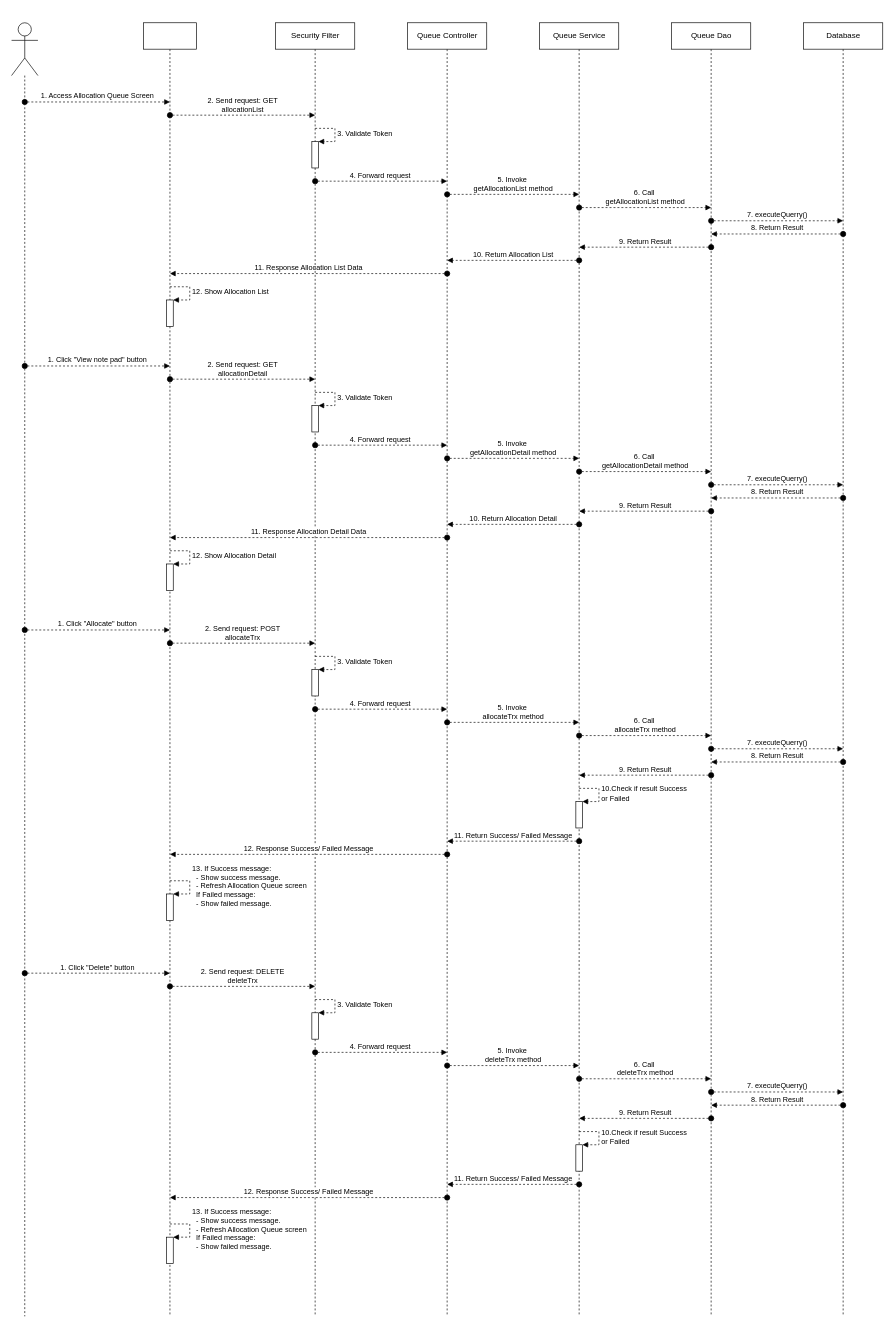
Image size: 894x1329. Some labels were removed from this diagram. The centre of each missing label's shape, as x and y in pixels:
Browser: (169,35)
User: (24,49)
